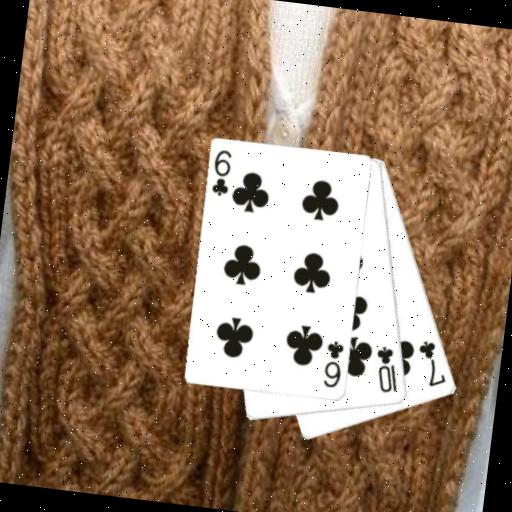10C: (370, 343, 404, 397)
6C: (319, 338, 347, 391), (208, 146, 235, 199)
7C: (411, 337, 452, 391)
